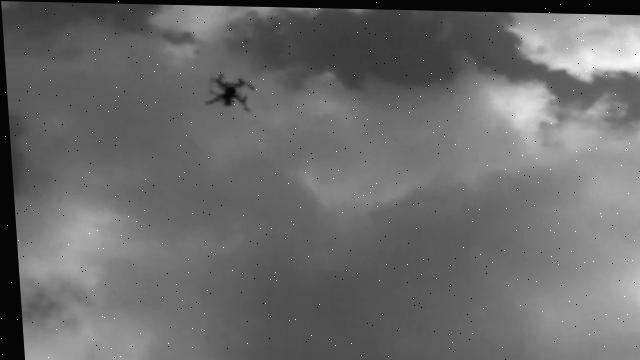drone: (198, 70, 257, 114)
